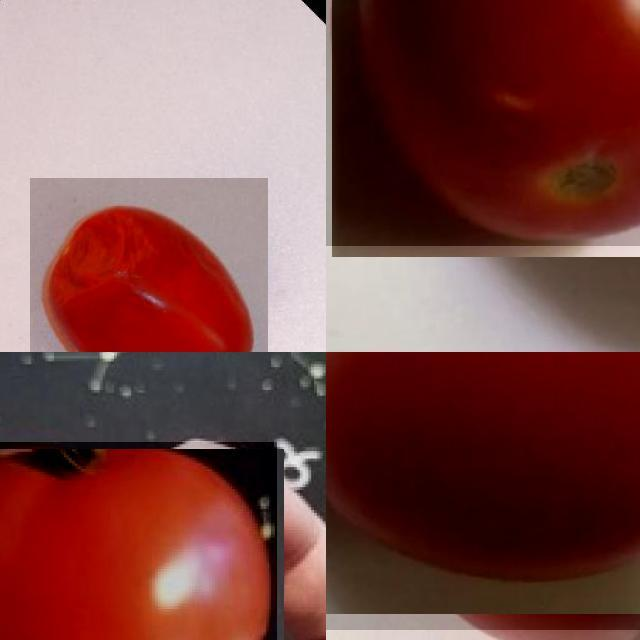Fresh Tomato: (326, 352, 640, 630), (326, 0, 640, 246), (0, 442, 277, 640)
Rotten Tomato: (30, 177, 268, 352)
